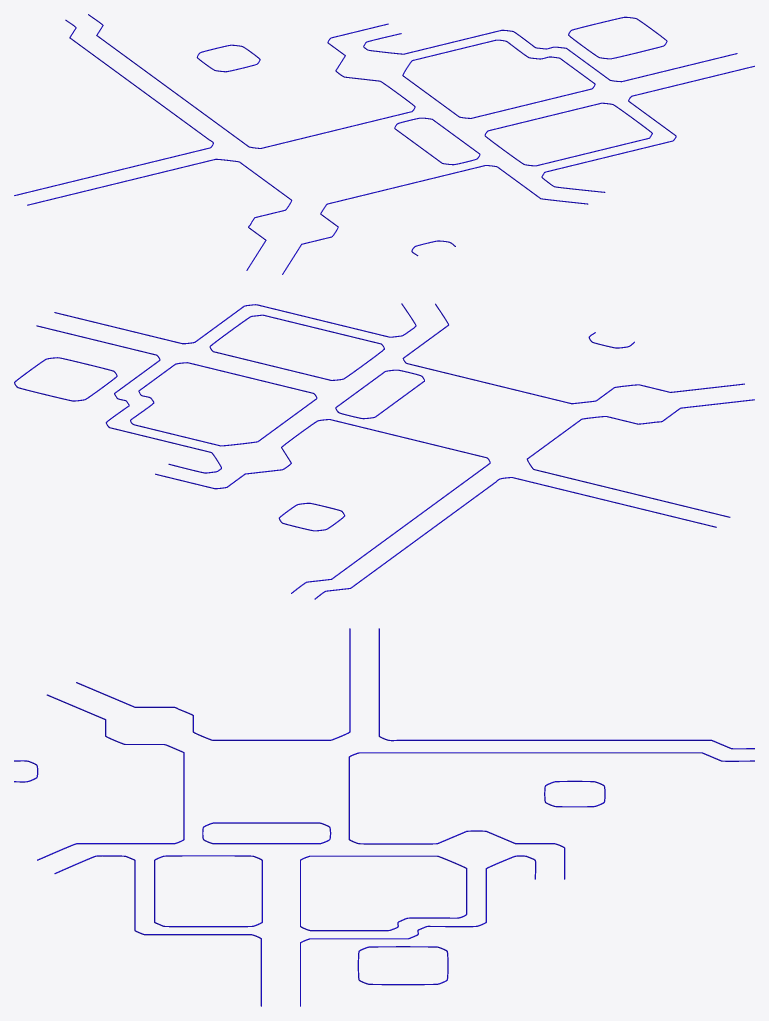
File: SM_Carpet.fbx
3 views of the same model, one above another, from view 1: azimuth 30°, elevation 25°; view 2: azimuth 150°, elevation 25°; view 3: azimuth 270°, elevation 25° (orthographic). The views are drawn at different scales.
Parts seen in each view (by area): view 1: Carpet; view 2: Carpet; view 3: Carpet.
Part boxes in pixels (<box>): Carpet: <box>14,14,754,274</box>; Carpet: <box>14,303,754,599</box>; Carpet: <box>14,628,754,1006</box>.
Bounding box in the file's own units: 6848 × 10 × 5681.
